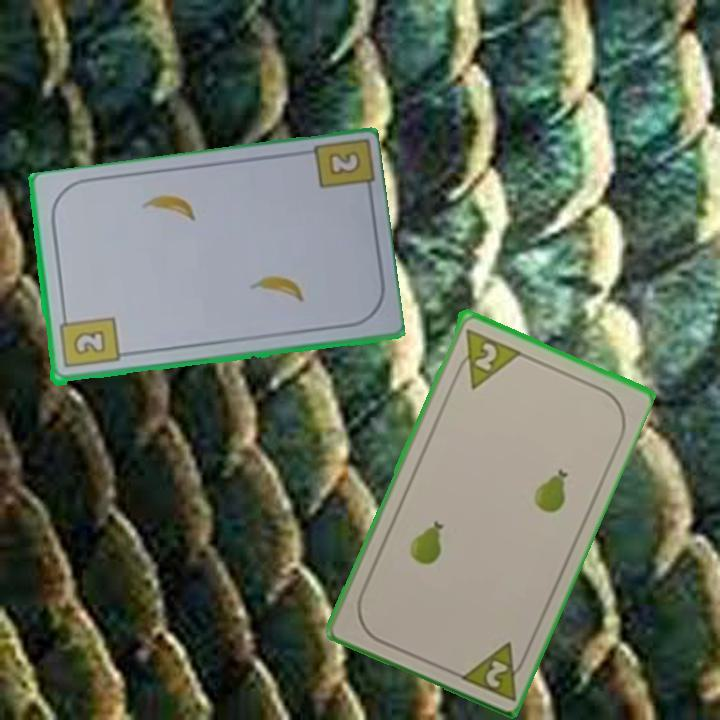2b: (55, 310, 121, 372), (324, 147, 364, 179)
2p: (453, 637, 532, 703), (470, 338, 500, 374)
